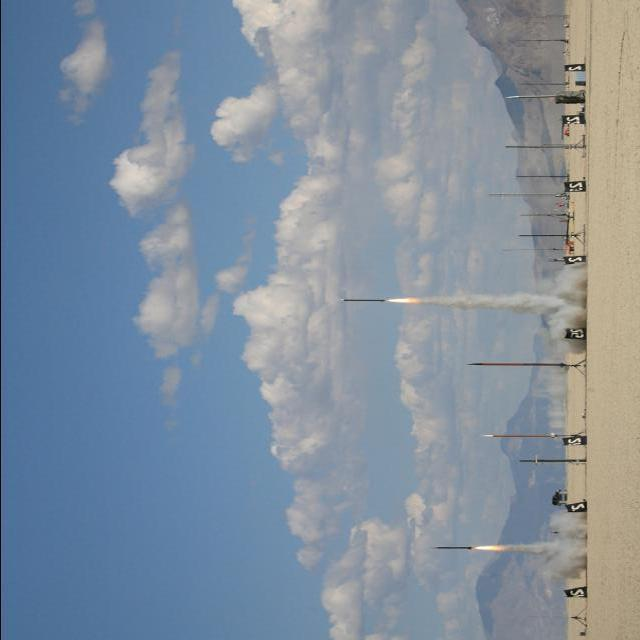missile: (342, 295, 388, 308), (435, 544, 481, 553)
